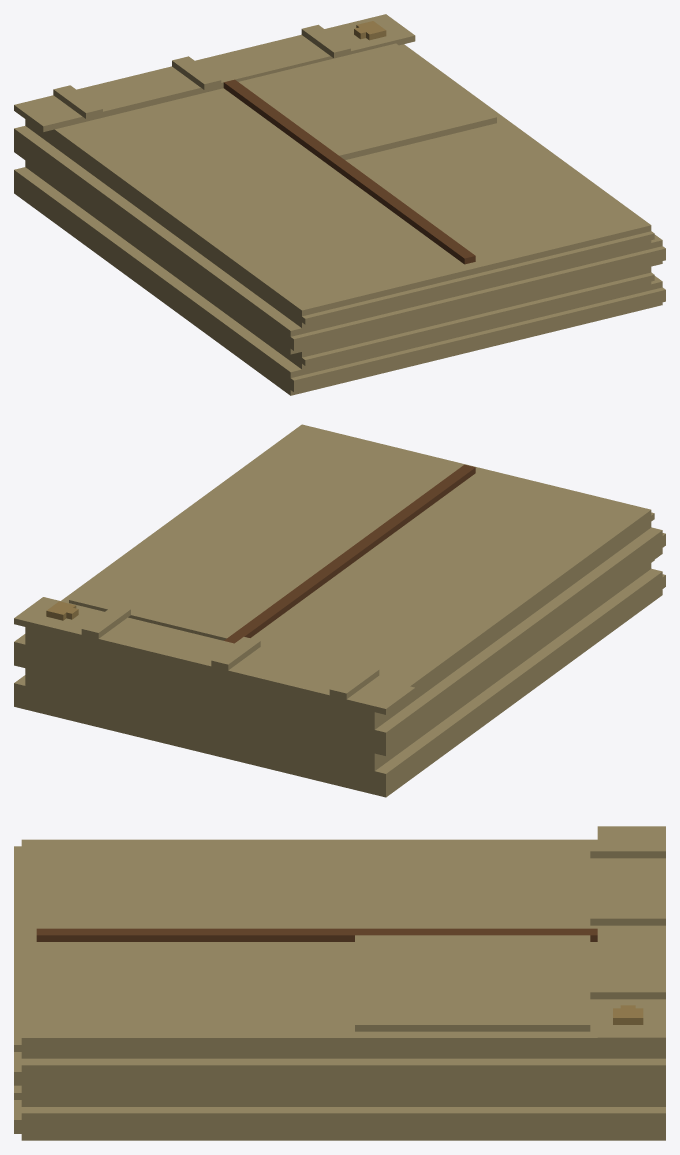
File: pants.glb
The picture shows the model from 3 angles, top to bottom: view 1: azimuth 30°, elevation 25°; view 2: azimuth 150°, elevation 25°; view 3: azimuth 270°, elevation 25°; orthographic projection. The views are drawn at different scales.
Parts seen in each view (by area): view 1: pants:compound; view 2: pants:compound; view 3: pants:compound.
Boxes of the visible parts, left/top/right/bottom form: pants:compound: left=14, top=14, right=665, bottom=395; pants:compound: left=14, top=424, right=665, bottom=797; pants:compound: left=14, top=826, right=665, bottom=1140.
Bounding box in the file's own units: 0.264 × 0.064 × 0.344.
